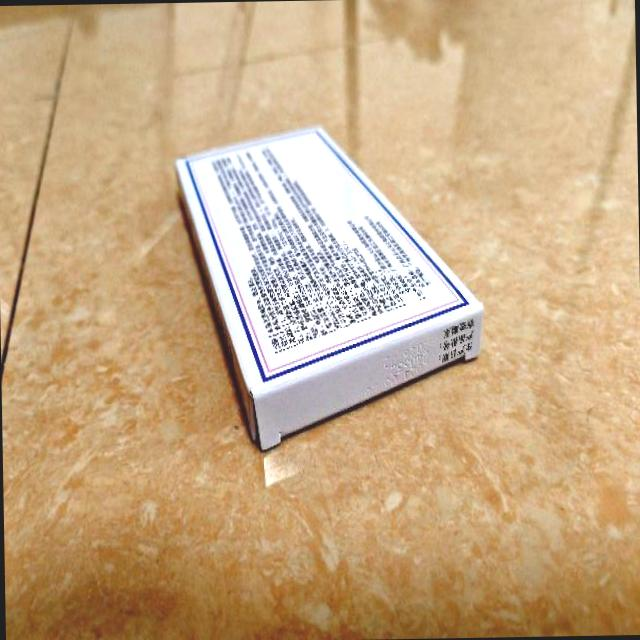box: (174, 122, 487, 454)
